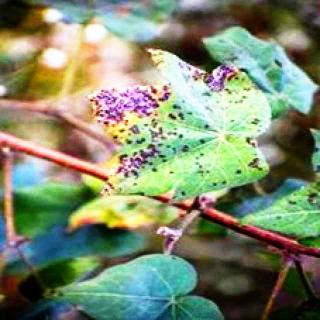leaf spot: (81, 44, 263, 196)
